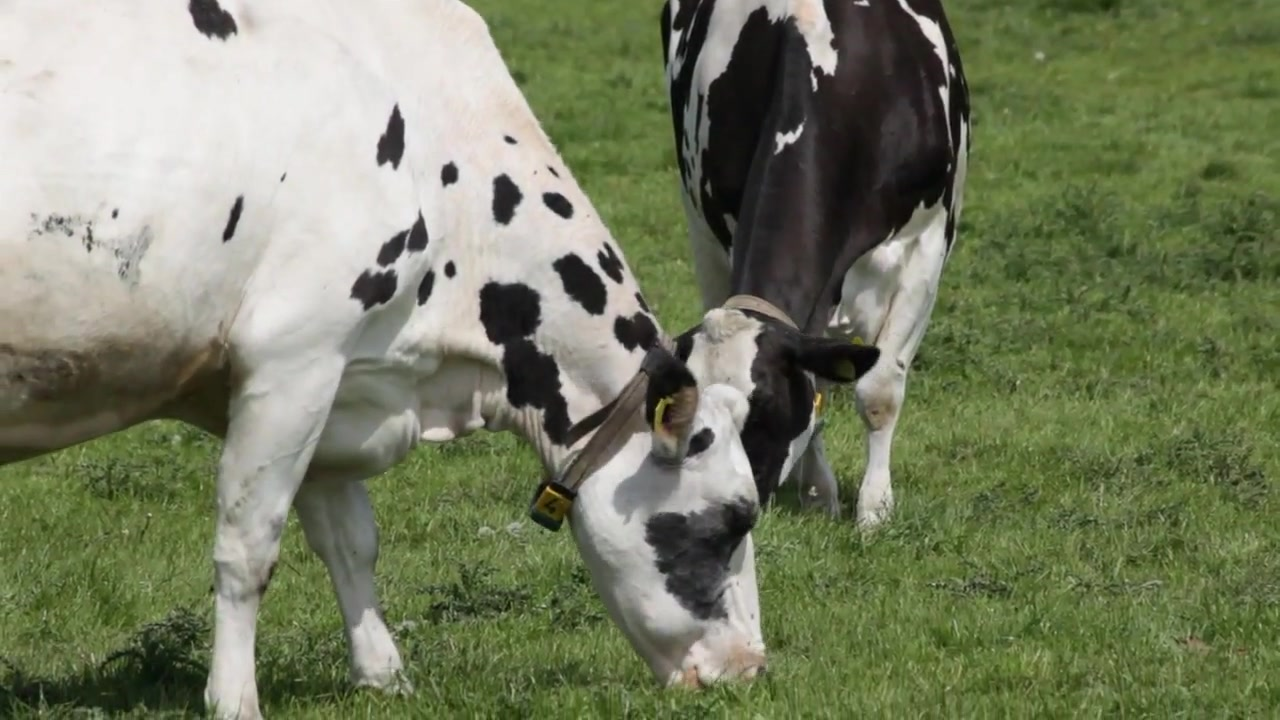cow: (1, 2, 768, 720)
